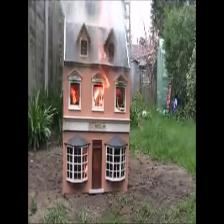fire: (92, 46, 108, 106), (71, 87, 78, 106)
